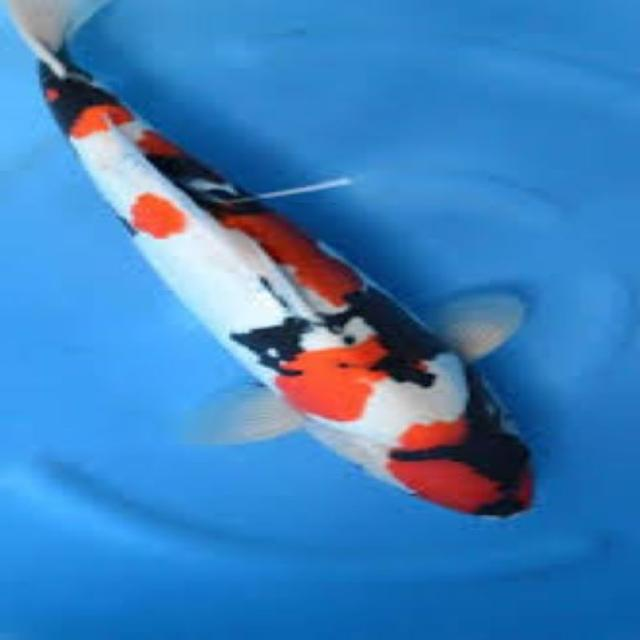Showa: (1, 0, 538, 519)
